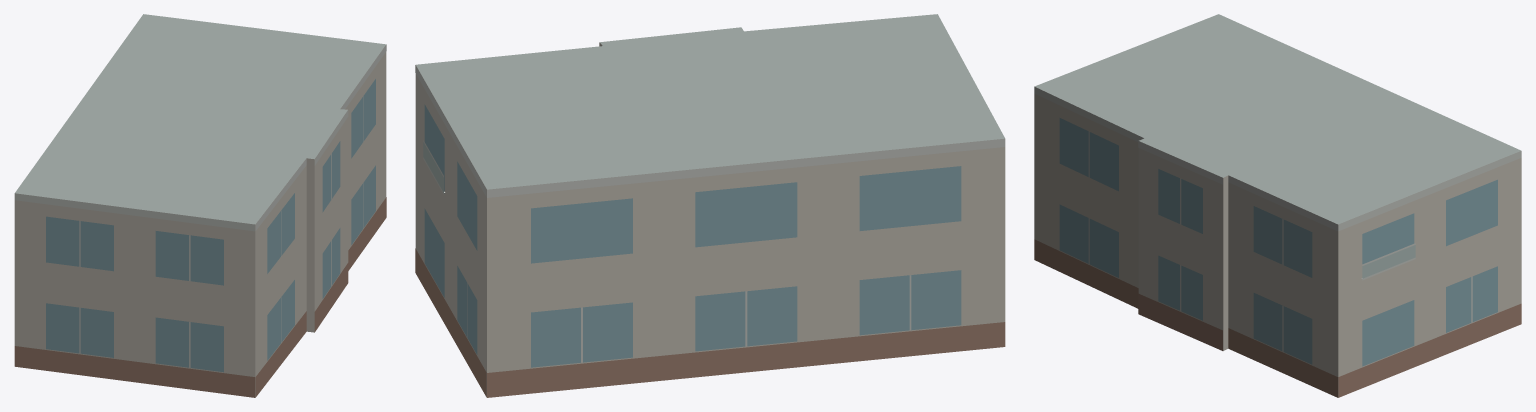
The model's file is survey-upis-32721886.glb.
3 views of the same model, side by side, from view 1: azimuth 30°, elevation 25°; view 2: azimuth 150°, elevation 25°; view 3: azimuth 270°, elevation 25° (orthographic). The views are drawn at different scales.
Parts seen in each view (by area): view 1: survey-upis-32721886.tmp; view 2: survey-upis-32721886.tmp; view 3: survey-upis-32721886.tmp.
Boxes of the visible parts, box(x1,y1,x2,y2) form: survey-upis-32721886.tmp: box(14, 14, 386, 397); survey-upis-32721886.tmp: box(415, 14, 1005, 397); survey-upis-32721886.tmp: box(1034, 14, 1521, 397).
Size of the model in its own units: 15.89 by 6.1 by 15.55.
